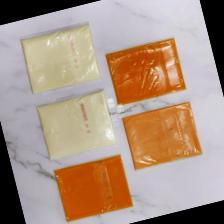cheese: (17, 20, 103, 96), (34, 88, 118, 162), (103, 36, 188, 108), (51, 152, 134, 224), (119, 100, 202, 172)
